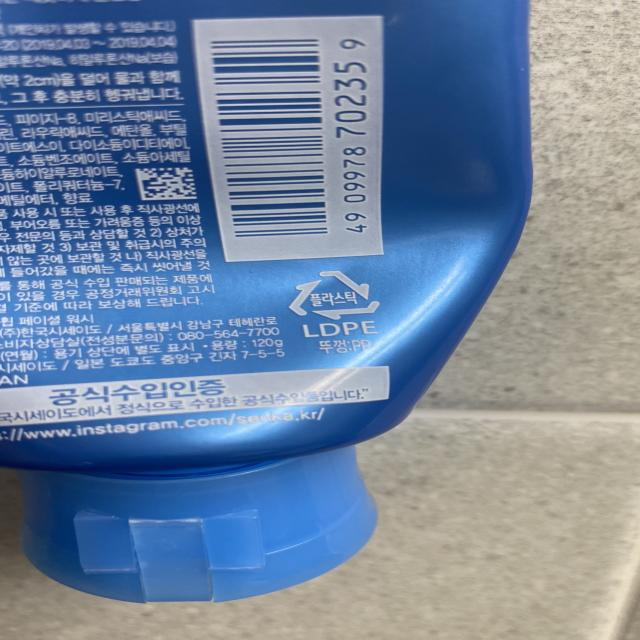Plastic: (277, 264, 391, 324)
